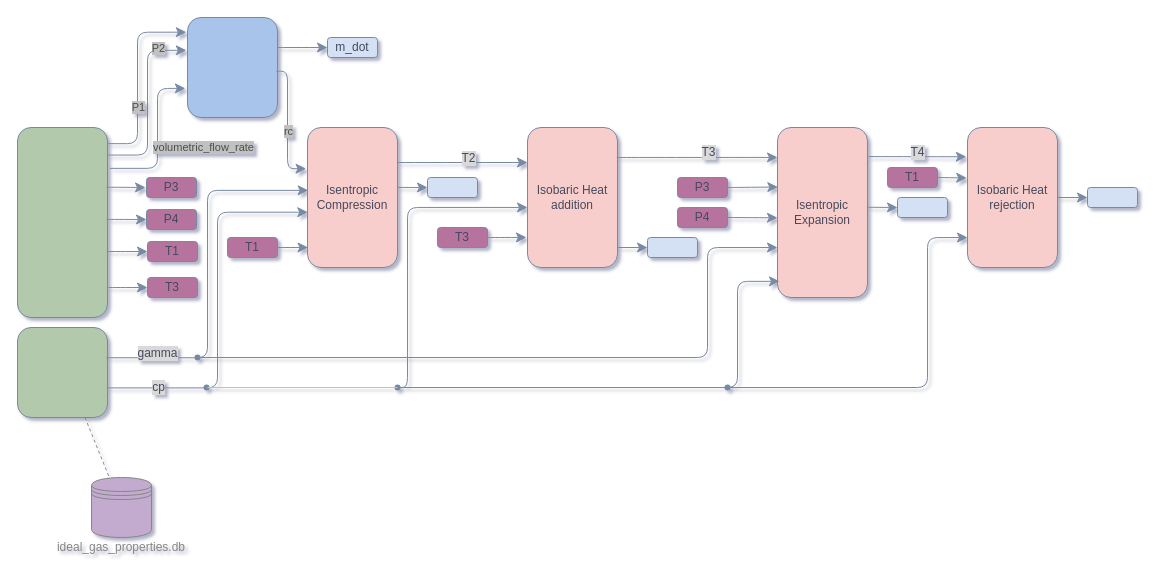
This 1161x581 diagram has some shape labels left out. The centre of each missing label's shape, as x and y in pixels:
"Fluid properties" goes at point 62,372.
"Initial Conditions" goes at point 62,222.
"Preliminary calculations" goes at point 232,67.
"Qin" goes at point 672,247.
"Qout" goes at point 1112,197.
"Wc" goes at point 452,187.
"Wt" goes at point 922,207.
